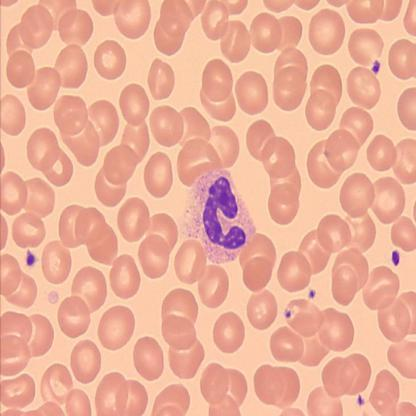Band Neutrophil: (176, 167, 257, 267)
